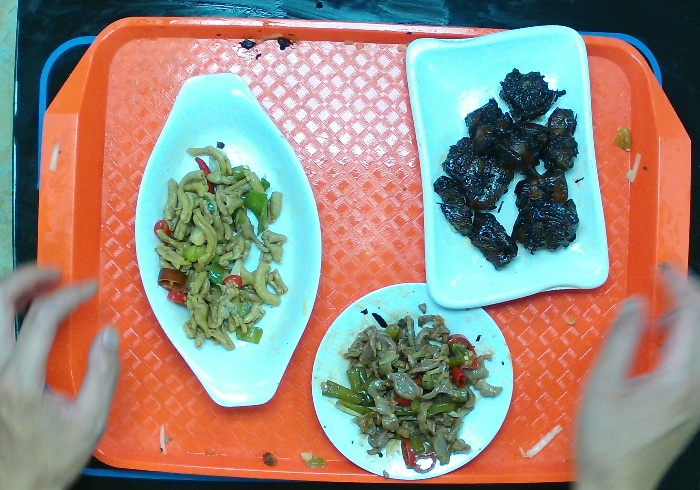RJxy-Si_Fang_Ao_Bian_Wan: (398, 21, 615, 310)
RJxy-Xiao_Yuan_Die: (310, 280, 518, 477)
RJxy-Yu_Pan: (135, 72, 324, 412)
